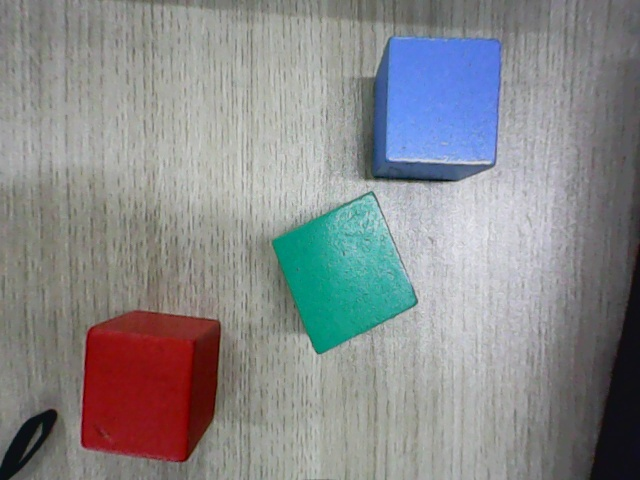upside of big cube: (271, 191, 418, 353), (80, 330, 194, 461), (385, 38, 502, 165)
